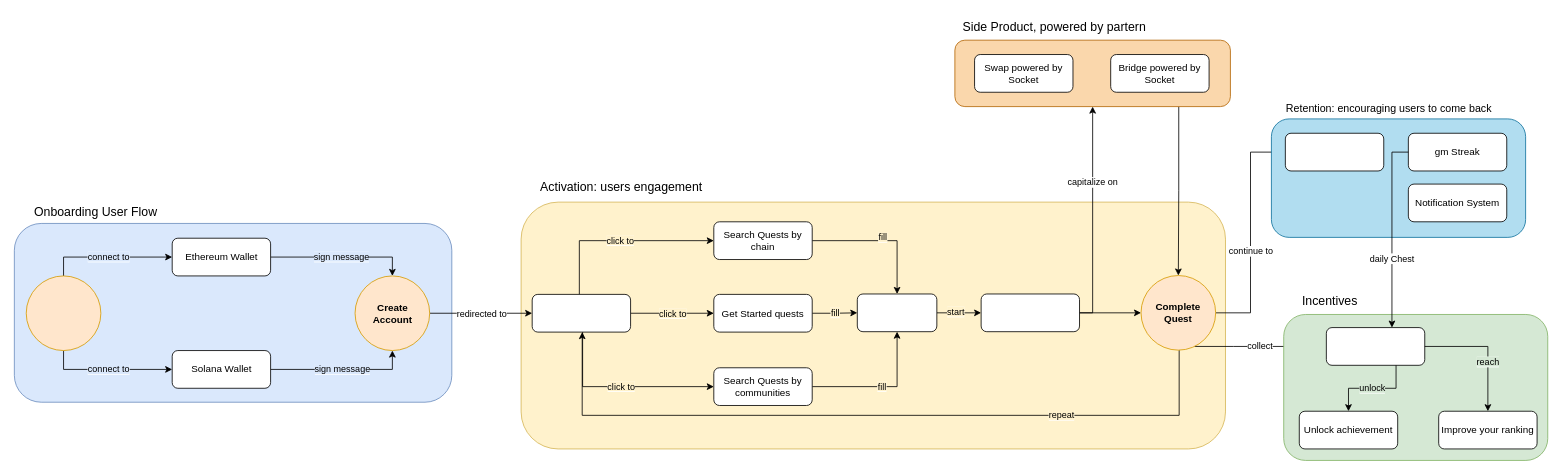
Image size: 1562x475. Some labels were removed from this diagram. Here are the shapes that lost their labels. From the top down, the centre of each, then its label:
At [1334,151]: "Start journey".
At [63,313]: "Sign in".
At [581,313]: "Layer3 Explorer Page".
At [896,312]: "Complete Profile".
At [1030,312]: "Complete all steps of the quest".
At [1375,346]: "Claim your rewards".
